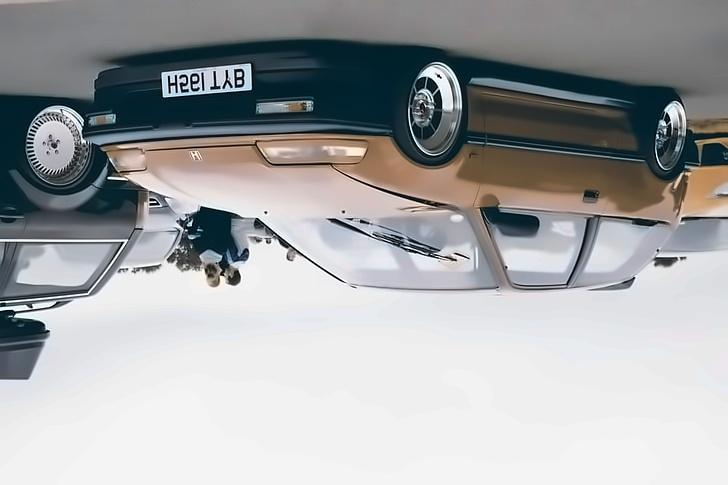Car hood: (99, 140, 447, 224)
Driver-s door - -F-R-: (484, 91, 616, 291)
Fender - -F-R-: (329, 81, 486, 214)
Fender - -R-R-: (617, 95, 685, 221)
Front bumper: (76, 44, 429, 148)
Headlight - -L-: (96, 144, 152, 178)
Headlight - -R-: (255, 135, 375, 171)
Rear bumper: (681, 124, 709, 178)
Side bumper - -R-: (460, 62, 638, 112)
Side mirror - -L-: (247, 208, 289, 249)
Side mirror - -R-: (474, 199, 546, 243)
